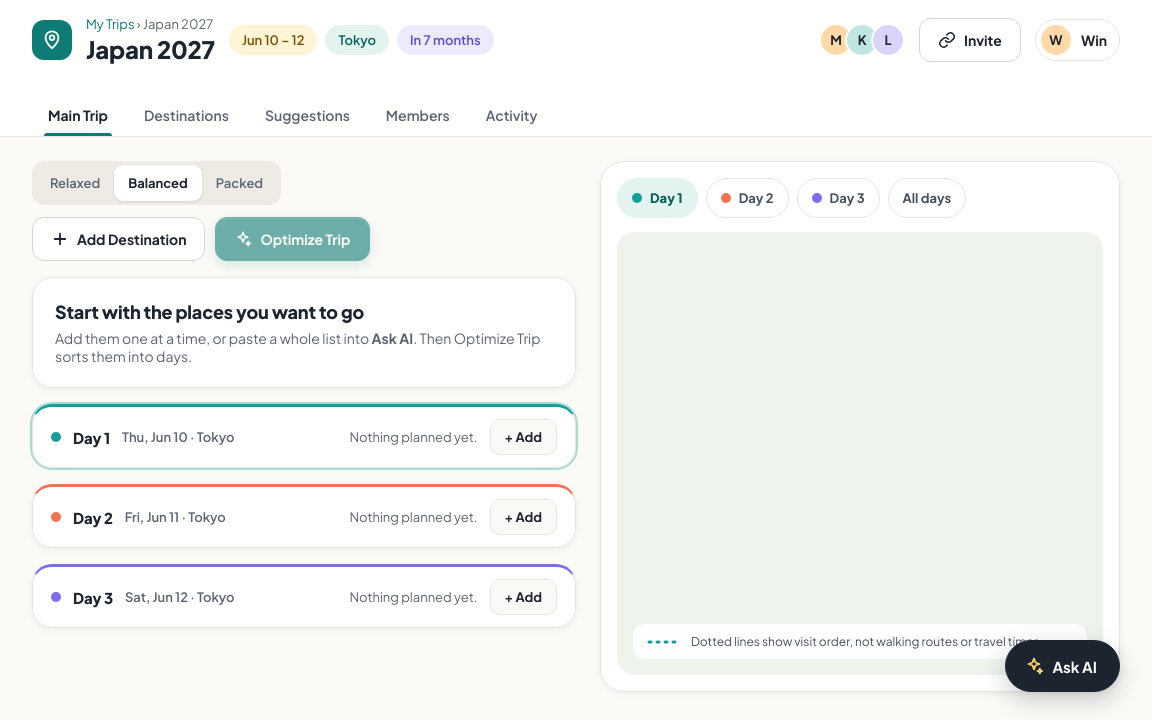
Test case: surfaces HTTP failures like quota limits
Click the button "Ask AI".
click(1063, 666)  # box [1005,640,1120,692]
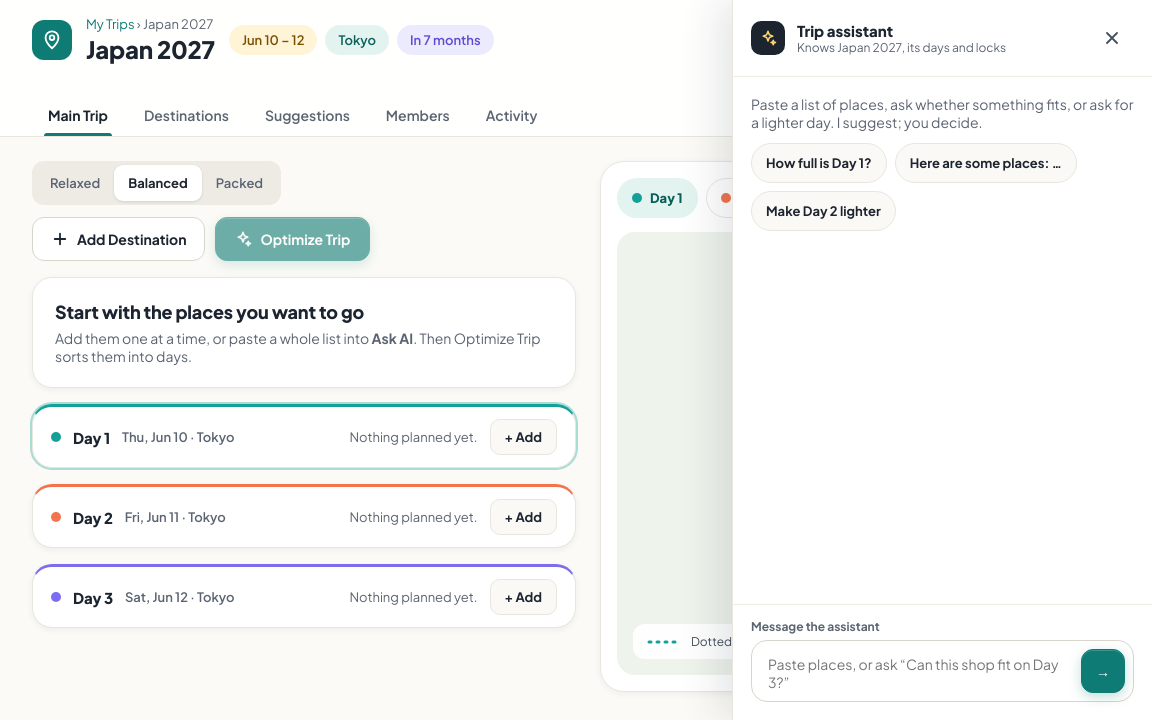
Type "hi" into the text box labelled "Message the assistant".
click(918, 673); type("hi")  # box [766,653,1069,693]
Then press Enter
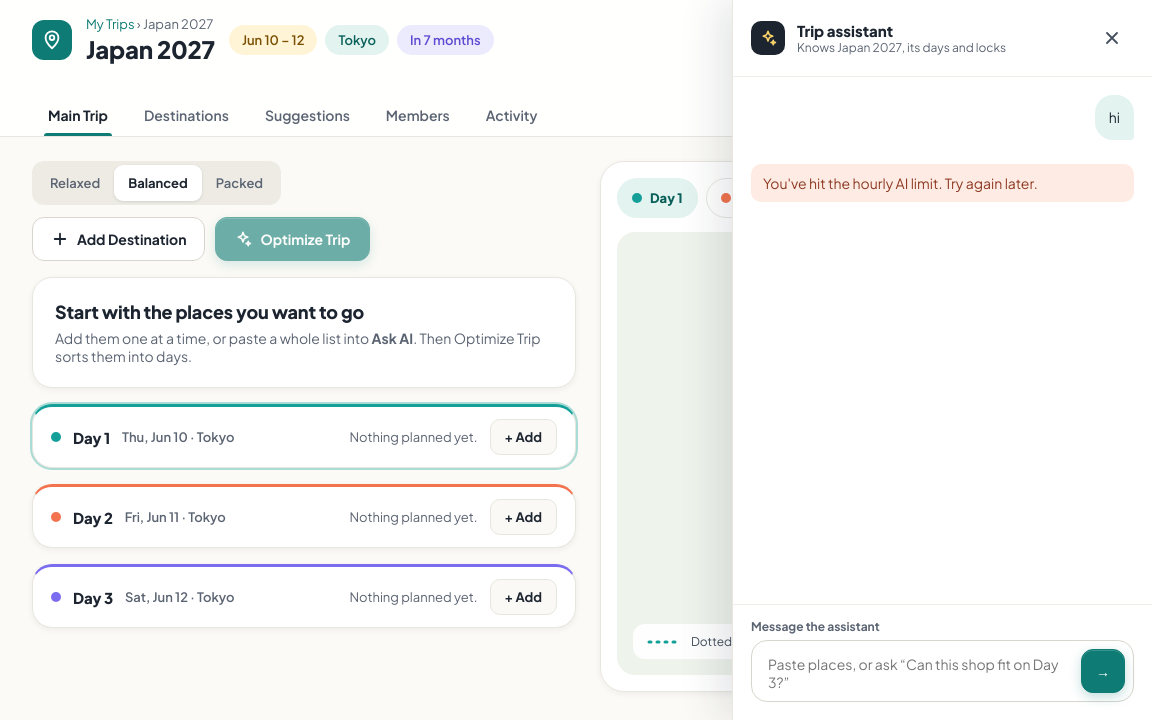
Result: the message shows "hourly AI limit" at [763,174,1038,192]
